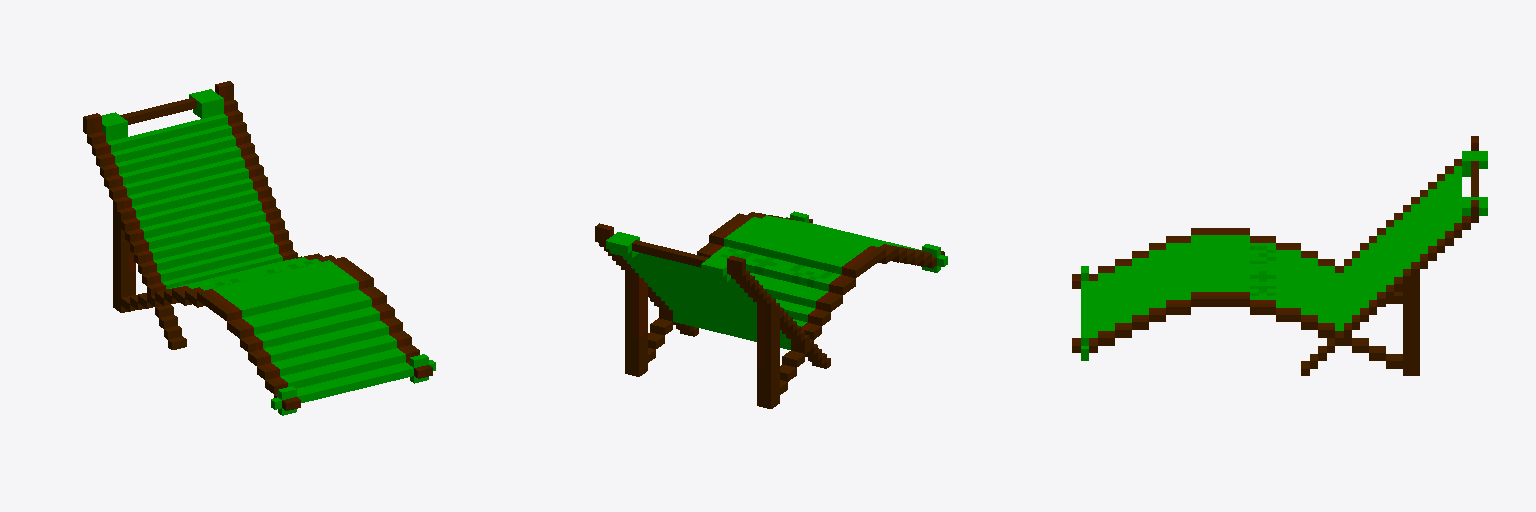
The picture shows the model from 3 angles: view 1: azimuth 30°, elevation 25°; view 2: azimuth 150°, elevation 25°; view 3: azimuth 270°, elevation 25°; orthographic projection.
Visible parts, largest first — view 1: object 1; view 2: object 1; view 3: object 1.
Part boxes in pixels (x1,y1,x2,y2): object 1: (83, 81, 435, 415); object 1: (595, 211, 947, 408); object 1: (1072, 136, 1487, 375).
Bounding box in the file's own units: 2.2 × 2.2 × 4.9.
Materials: 1 (1 with a texture image).